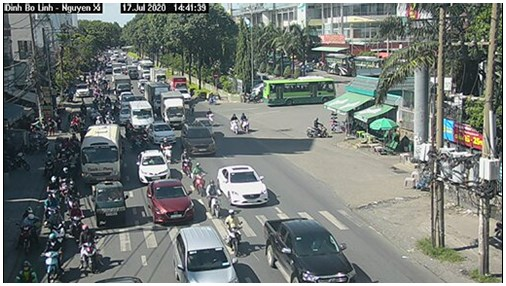xe_ban_tai: (260, 217, 359, 283)
xe_buyt: (262, 76, 337, 105)
xe_hoi: (172, 226, 240, 284), (146, 179, 194, 225), (217, 165, 270, 206), (181, 121, 218, 158)
xe_khach: (80, 125, 125, 183), (128, 100, 154, 129)
xe_may: (78, 225, 102, 274), (221, 209, 245, 256), (15, 206, 39, 251), (41, 232, 62, 282), (66, 202, 86, 239), (205, 178, 223, 217), (58, 163, 78, 198), (189, 159, 206, 196), (304, 115, 329, 140), (47, 210, 67, 239), (40, 146, 57, 179), (17, 258, 37, 284), (180, 143, 195, 177), (46, 177, 59, 209), (160, 135, 172, 164), (131, 124, 142, 154), (230, 110, 241, 137), (58, 141, 69, 167), (137, 125, 150, 147), (240, 110, 251, 135), (69, 114, 83, 133), (106, 110, 114, 122)
xe_tai: (91, 180, 129, 228), (161, 90, 186, 130), (142, 81, 172, 112), (114, 73, 132, 97), (147, 66, 167, 82), (75, 80, 90, 99)
